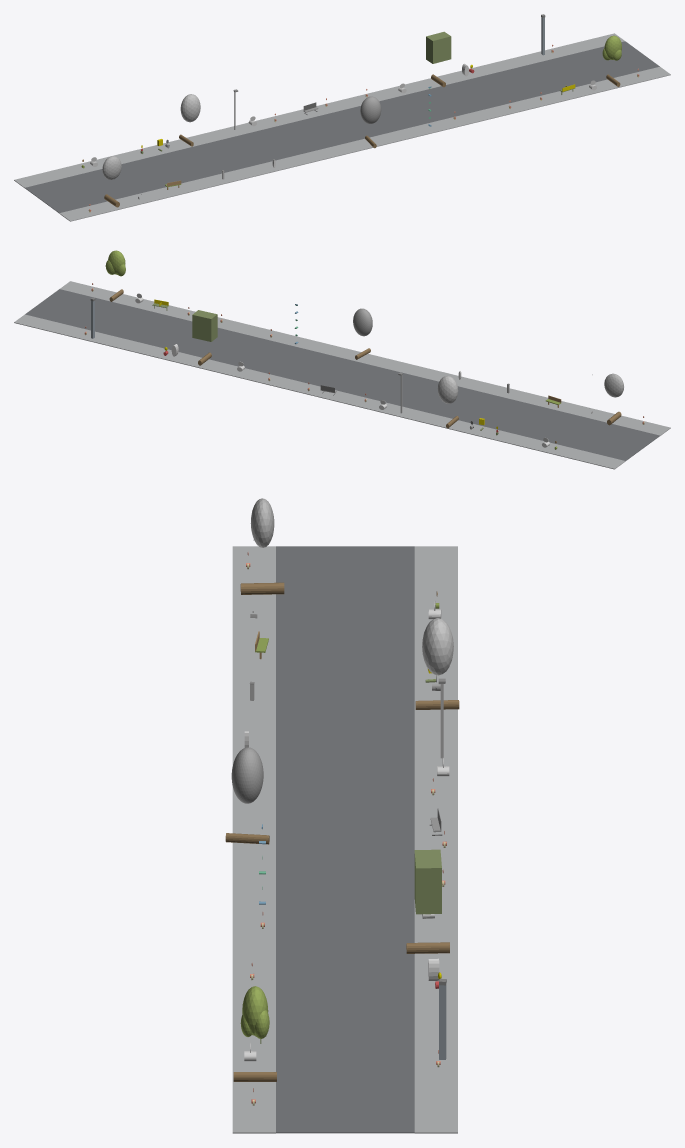
The picture shows the model from 3 angles, top to bottom: view 1: azimuth 30°, elevation 25°; view 2: azimuth 150°, elevation 25°; view 3: azimuth 270°, elevation 25°; orthographic projection. The views are drawn at different scales.
Visible parts, largest first — view 1: road_slab, sidewalk_left, sidewalk_right, inst_0015, inst_0014, inst_0013, inst_0016, inst_0012; view 2: road_slab, sidewalk_right, sidewalk_left, inst_0015, inst_0013, inst_0014, inst_0016, inst_0012; view 3: road_slab, sidewalk_left, sidewalk_right, inst_0015, inst_0013, inst_0014, inst_0016, inst_0012.
Part boxes in pixels (box(x1,y1,x2,y2)): road_slab: box(25, 41, 659, 213); sidewalk_left: box(59, 66, 670, 221); sidewalk_right: box(14, 33, 624, 188); inst_0015: box(426, 31, 451, 87); inst_0014: box(360, 96, 381, 148); inst_0013: box(179, 94, 200, 146); inst_0016: box(602, 35, 621, 86); inst_0012: box(102, 156, 121, 207); road_slab: box(25, 289, 659, 461); sidewalk_right: box(14, 314, 625, 469); sidewalk_left: box(60, 281, 670, 435); inst_0015: box(192, 310, 217, 365); inst_0013: box(437, 375, 458, 428); inst_0014: box(353, 308, 372, 359); inst_0016: box(105, 250, 125, 301); inst_0012: box(604, 373, 623, 425); road_slab: box(276, 546, 414, 1133); sidewalk_left: box(232, 546, 275, 1133); sidewalk_right: box(414, 546, 457, 1133); inst_0015: box(406, 849, 449, 953); inst_0013: box(415, 618, 459, 709); inst_0014: box(225, 747, 269, 844); inst_0016: box(233, 986, 276, 1081); inst_0012: box(240, 498, 284, 594).
Size of the model in its own units: 80 by 6.08 by 13.47.
